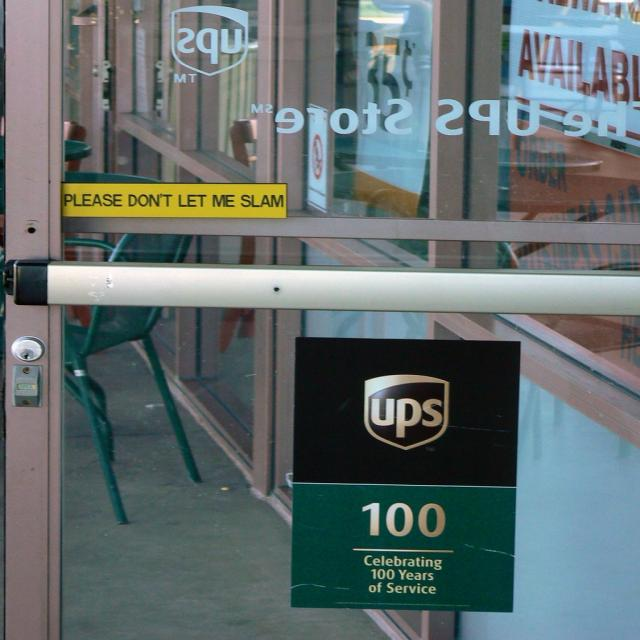ups: (365, 375, 451, 451), (170, 6, 252, 79)
